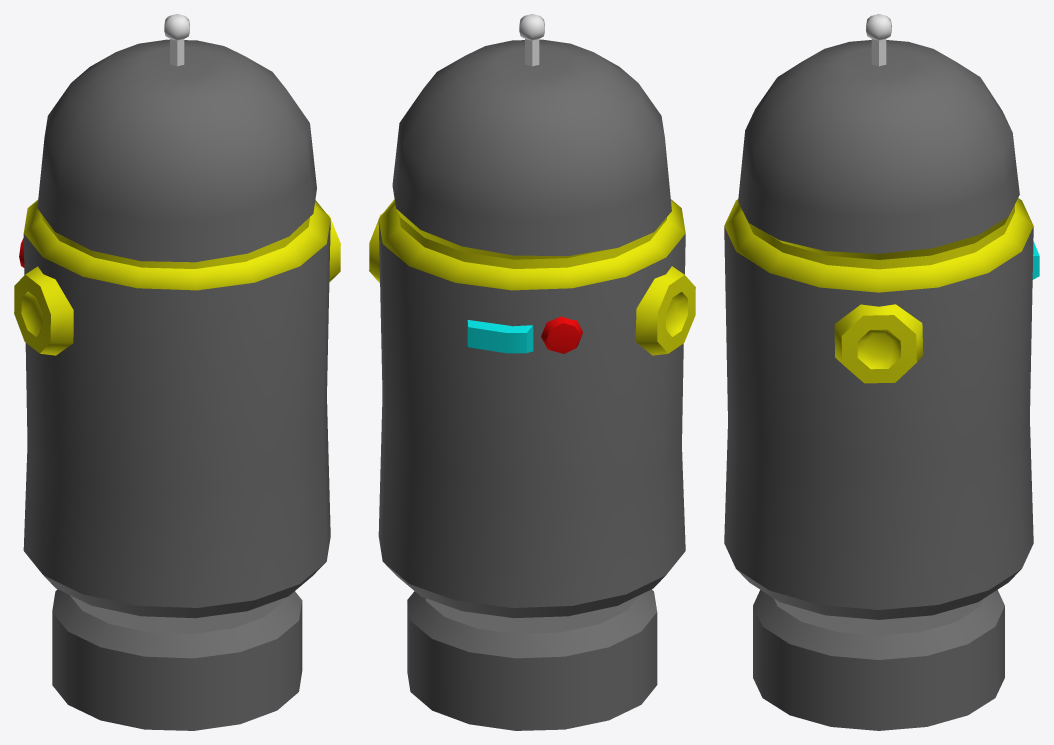
Rendered from Waiter_Body.fbx.
The picture shows the model from 3 angles, left to right: view 1: azimuth 30°, elevation 25°; view 2: azimuth 150°, elevation 25°; view 3: azimuth 270°, elevation 25°; orthographic projection.
Parts seen in each view (by area): view 1: Waiter_Body; view 2: Waiter_Body; view 3: Waiter_Body.
Boxes of the visible parts, x1,y1,x2,y2 form: Waiter_Body: (14,14,340,730); Waiter_Body: (369,14,695,730); Waiter_Body: (724,14,1039,730).
Size of the model in its own units: 93.36 by 203 by 87.91.
